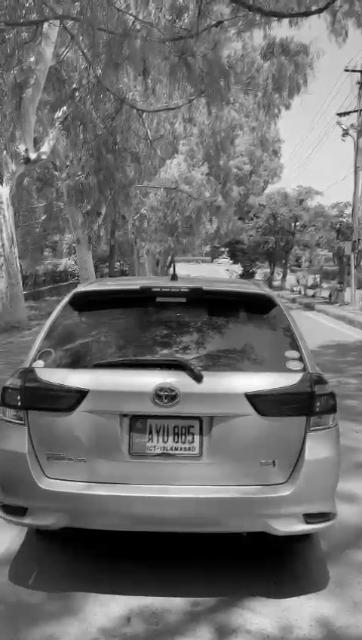Number: (146, 423, 196, 445)
